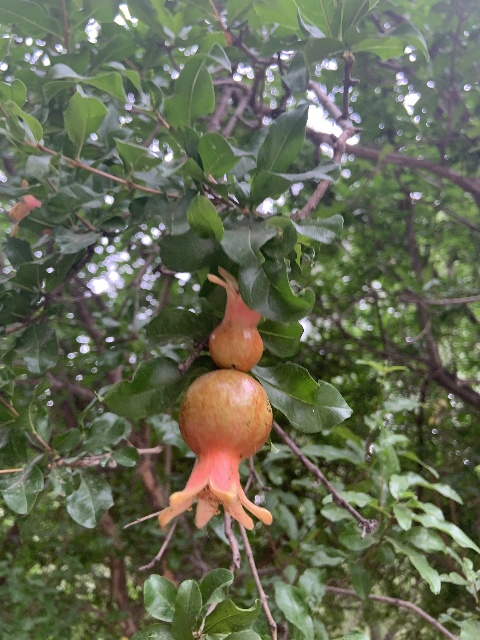early-fruit: (158, 369, 274, 532), (206, 265, 262, 374)
